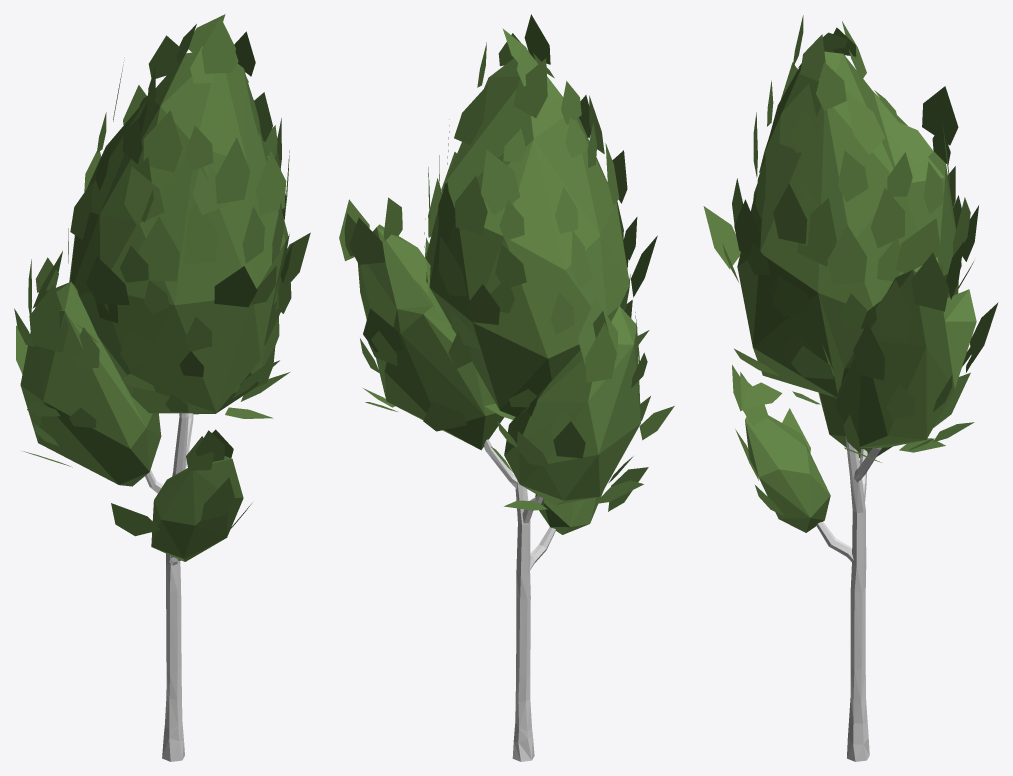
The model's file is SM_Tree_Poplar_Young_A.fbx.
3 renders of one model, left to right at view 1: azimuth 30°, elevation 25°; view 2: azimuth 150°, elevation 25°; view 3: azimuth 270°, elevation 25°, orthographic. The views are drawn at different scales.
Visible parts, largest first — view 1: tree-poplar-young-a; view 2: tree-poplar-young-a; view 3: tree-poplar-young-a.
Boxes of the visible parts, x1,y1,x2,y2 form: tree-poplar-young-a: (14,14,310,761); tree-poplar-young-a: (339,14,674,761); tree-poplar-young-a: (703,15,998,761).
Bounding box in the file's own units: 3.05 × 7.4 × 2.63.
